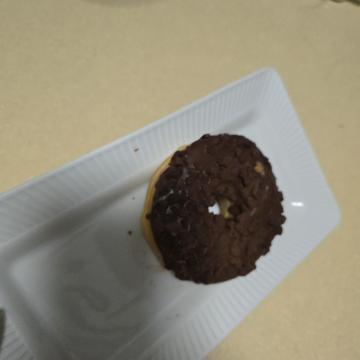doughnut: (124, 68, 310, 228)
